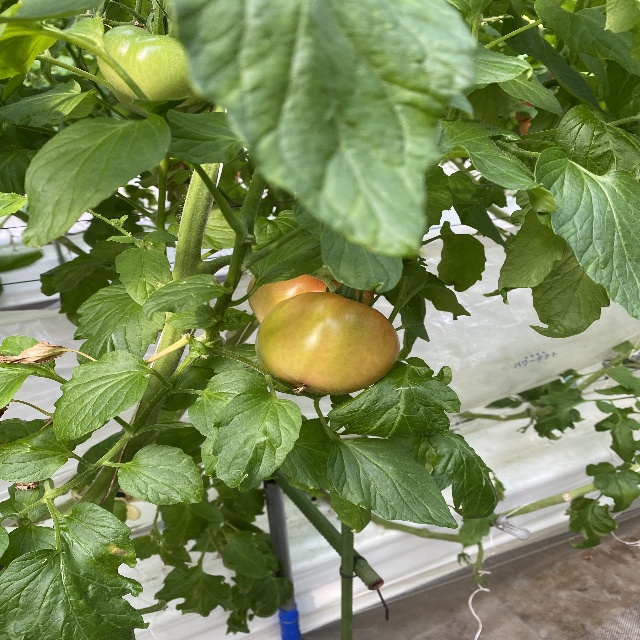b_green: (97, 24, 211, 107)
b_half_ripened: (254, 292, 400, 396), (248, 275, 375, 325)
